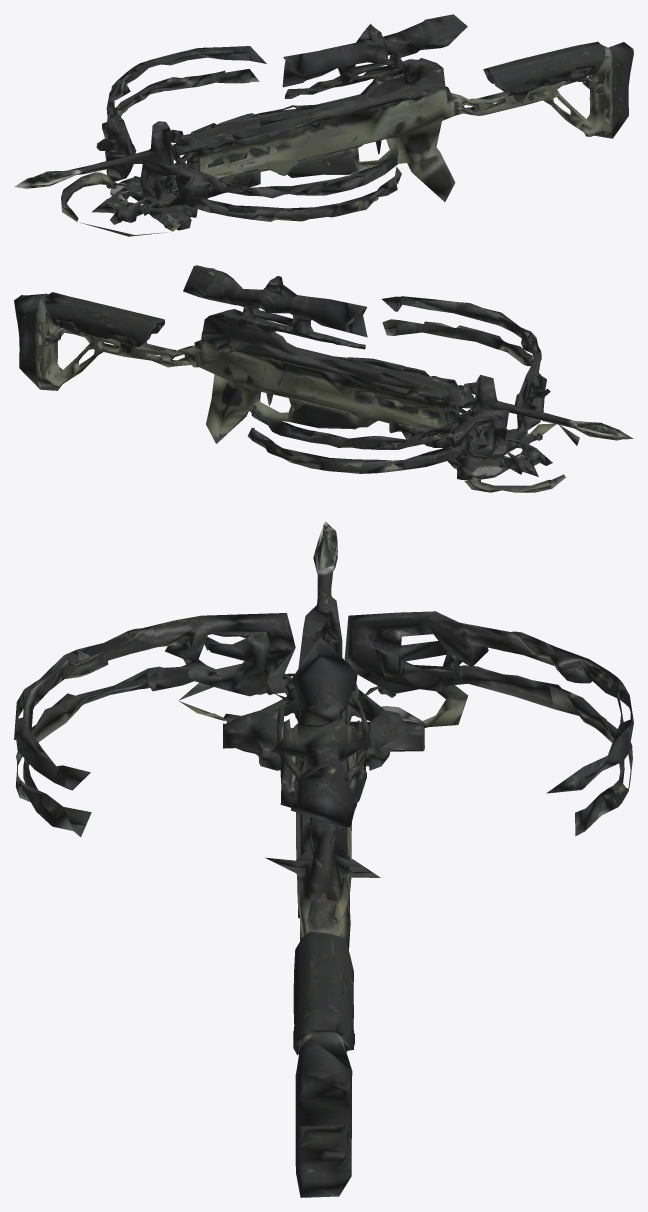
The model's file is gun_crossbow_lo.glb.
3 renders of one model, top to bottom at view 1: azimuth 30°, elevation 25°; view 2: azimuth 150°, elevation 25°; view 3: azimuth 270°, elevation 25°, orthographic. The views are drawn at different scales.
Size of the model in its own units: 1.9 by 0.551 by 0.9293.
1 material, 1 textured.
